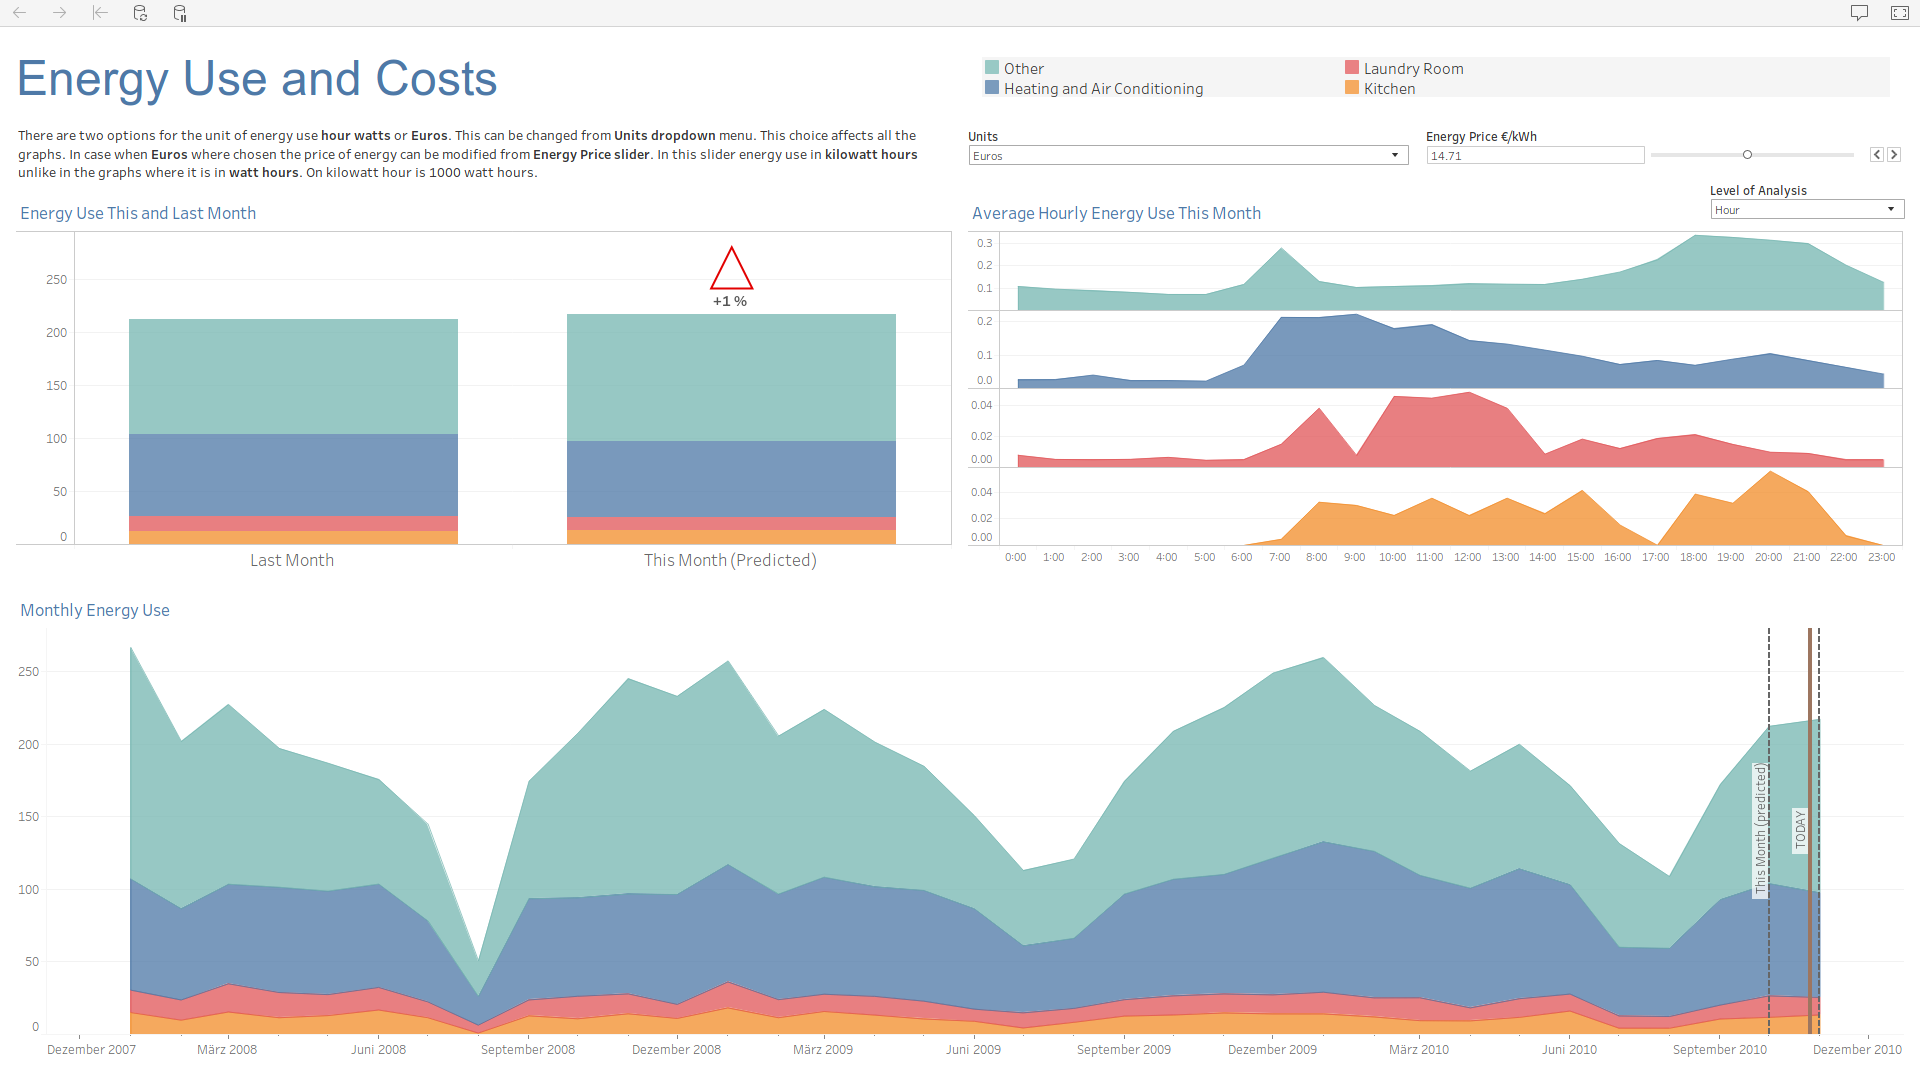

What the dashboard file says about the page in this screenshot:
{"tool":"tableau","page":{"name":"Dashboard 1","canvas":[1000,800],"ordinal":0},"visuals":[{"type":"text","box":[8,8,359,54]},{"type":"parameter","param":"[Parameters].[Parameter 1]","box":[367,8,133,54]},{"type":"legend","title":"Energy Use This and Last Month","param":"[federated.14t8zl908duve41givobu0o2eyob].[:Measure Names]","box":[500,8,492,54]},{"type":"worksheet","title":"Energy Use This and Last Month","mark":"Bar","cols":["Date_Time"],"box":[8,62,492,338]},{"type":"worksheet","title":"Total Energy Use per Month","mark":"Area","cols":["Date_Time"],"box":[500,62,492,338]},{"type":"text","box":[8,400,492,392]},{"type":"worksheet","title":"Energy Use 24 Hours","mark":"Line","cols":["Calculation_447826730026311696"],"box":[500,400,492,392]}]}

Visuals, with their boxes on the page's 1000x800 design canvas (x1, y1, x2, y2). These are canvas units, not pixel positions in the 1920x1080 screenshot, which may show the page scaled, cropped or inside an application window:
text: 8/8/367/62
parameter: 367/8/500/62
"Energy Use This and Last Month" legend: 500/8/992/62
"Energy Use This and Last Month" worksheet (Bar marks): 8/62/500/400
"Total Energy Use per Month" worksheet (Area marks): 500/62/992/400
text: 8/400/500/792
"Energy Use 24 Hours" worksheet (Line marks): 500/400/992/792
